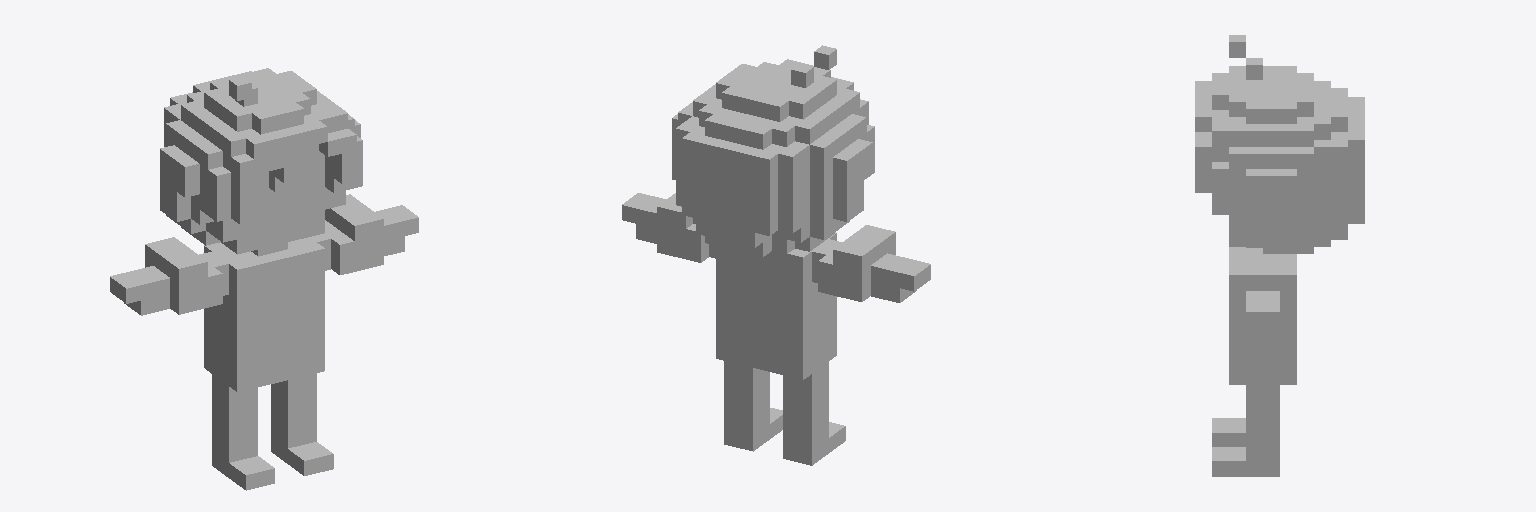
File: Chara_Onmyousi_220127.obj
3 renders of one model, left to right at view 1: azimuth 30°, elevation 25°; view 2: azimuth 150°, elevation 25°; view 3: azimuth 270°, elevation 25°, orthographic.
Parts seen in each view (by area): view 1: object 1; view 2: object 1; view 3: object 1.
Boxes of the visible parts, box(x1,y1,x2,y2) form: object 1: box(110, 68, 418, 490); object 1: box(622, 45, 930, 465); object 1: box(1195, 35, 1364, 476).
Size of the model in its own units: 2 by 2.6 by 1.